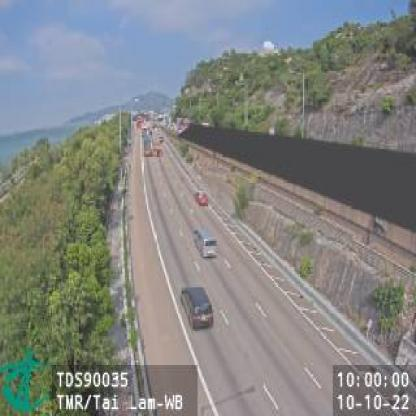Car: (180, 285, 214, 329), (194, 228, 218, 260), (195, 191, 208, 206)
